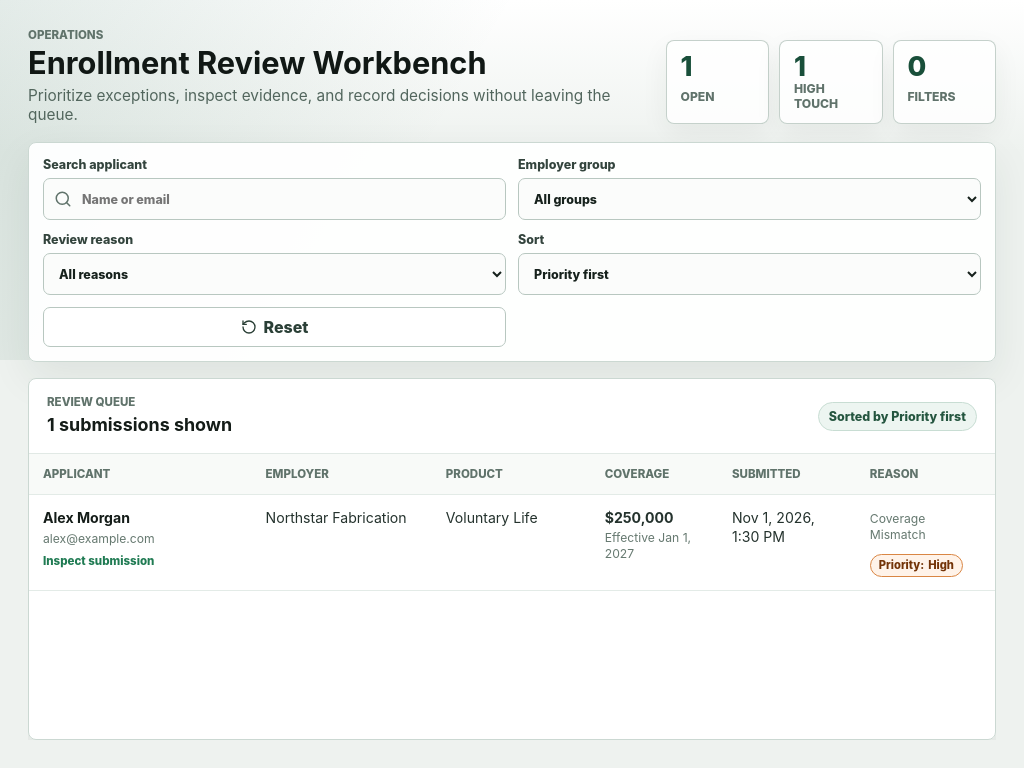
Test: Enrollment Review Workbench › disables decision buttons while saving to prevent duplicate actions
This screenshot has width=1024, height=768.
Click the button "Alex Morgan alex@example.com Inspect submission". click: (140, 539)
box: [43,508,238,570]
(page scrolled)
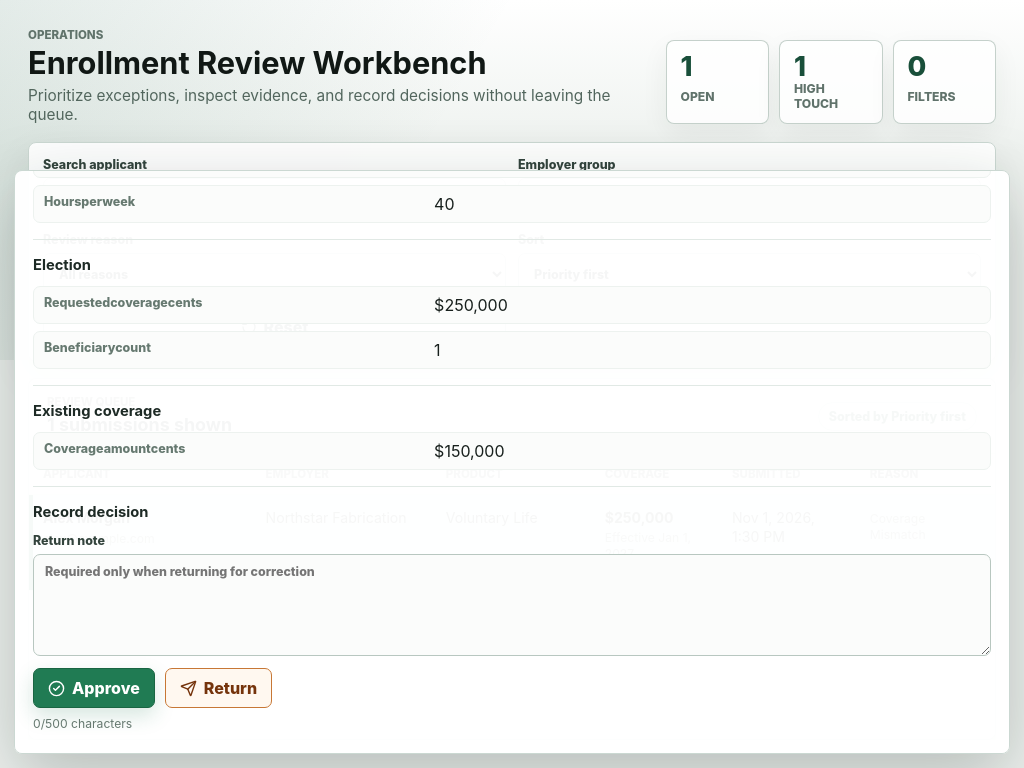
Click the button "Approve". click: (94, 688)
box: [33,668,155,708]
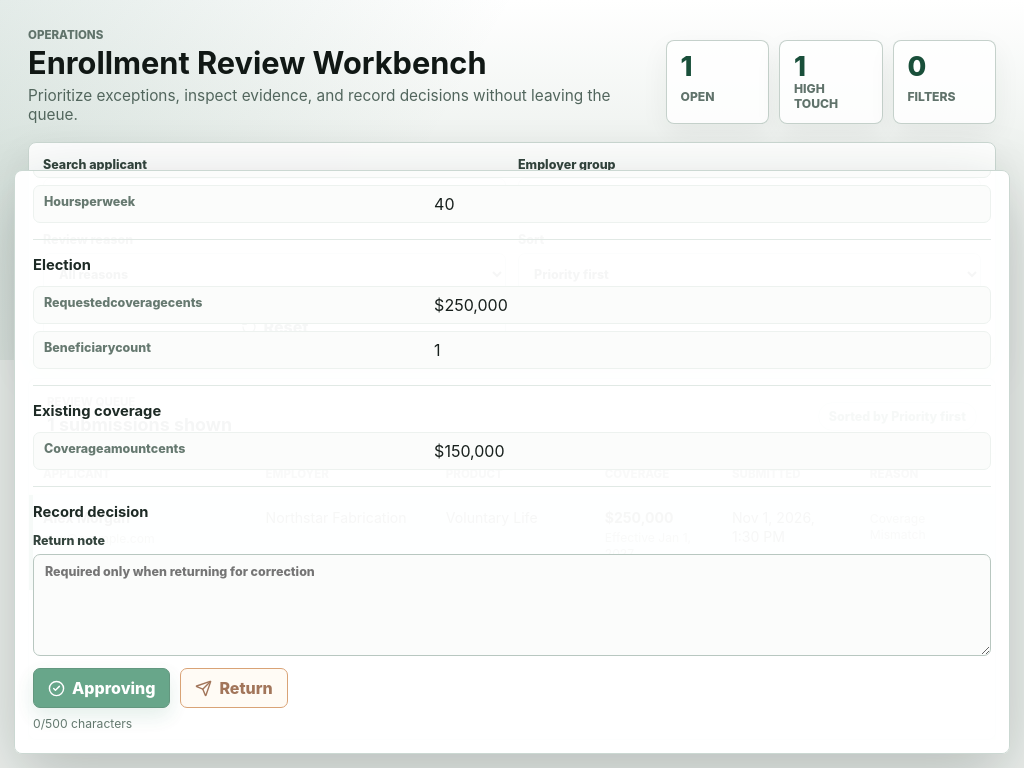
Expected: the button "Approving" is disabled
Expected: the button "Return" is disabled, [180,668,288,708]
Click the button "Approving". click: (102, 688)
box: [33,668,170,708]
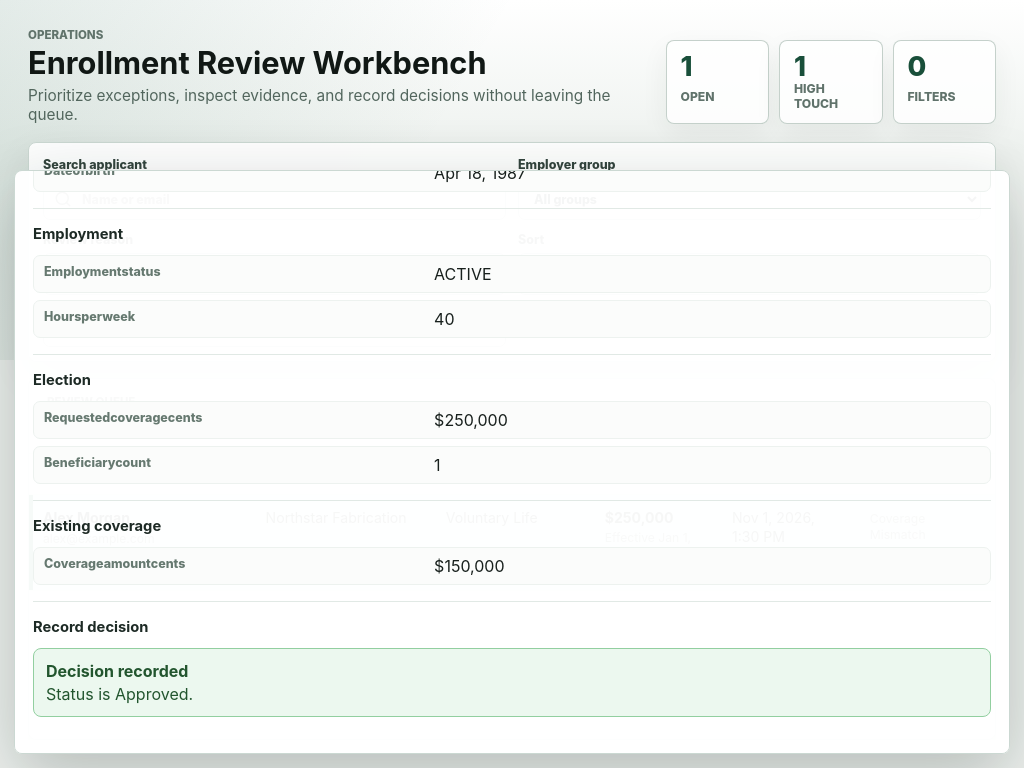
Expected: the message shows "Decision recorded", [46,661,188,681]
